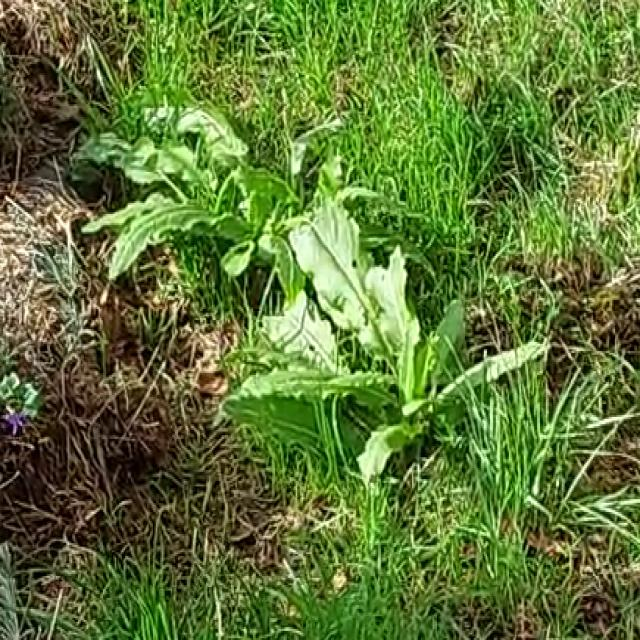organic waste: (248, 199, 558, 503), (99, 82, 397, 336)
